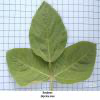Soyabean leaf: (28, 0, 67, 63), (52, 41, 97, 85), (5, 48, 50, 86)
